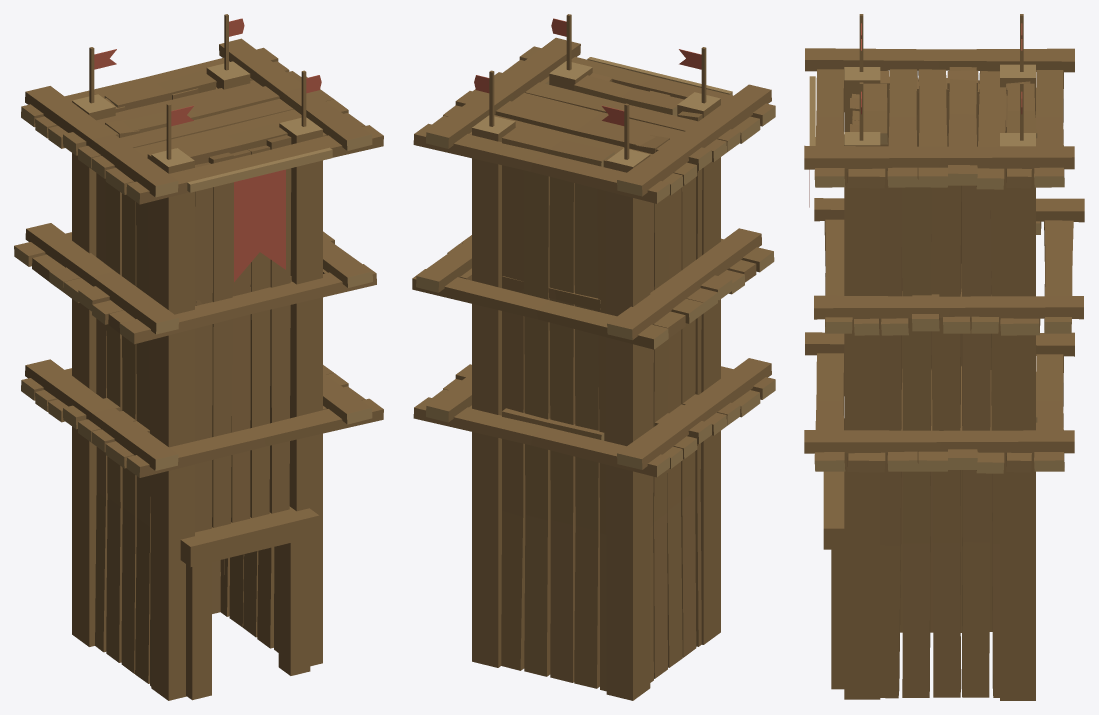
Rendered from Watch Tower-VJZZW37Vsk.glb.
3 views of the same model, side by side, from view 1: azimuth 30°, elevation 25°; view 2: azimuth 150°, elevation 25°; view 3: azimuth 270°, elevation 25° (orthographic). The views are drawn at different scales.
Parts seen in each view (by area): view 1: WatchTower_FirstAge_Level3; view 2: WatchTower_FirstAge_Level3; view 3: WatchTower_FirstAge_Level3.
Boxes of the visible parts, x1,y1,x2,y2 form: WatchTower_FirstAge_Level3: (14, 14, 383, 700); WatchTower_FirstAge_Level3: (412, 14, 775, 700); WatchTower_FirstAge_Level3: (804, 14, 1084, 700).
Size of the model in its own units: 0.7123 by 1.64 by 0.6795.
